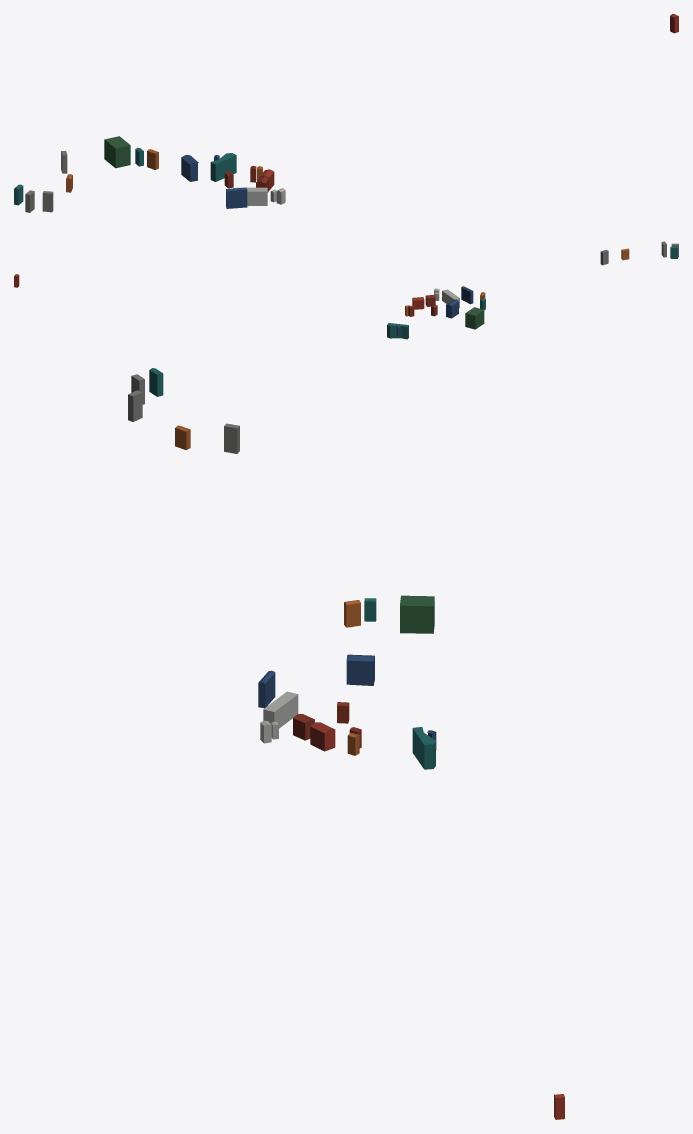
Rendered from near-15-27356-14861.5f40ff2d.glb.
3 renders of one model, top to bottom at view 1: azimuth 30°, elevation 25°; view 2: azimuth 150°, elevation 25°; view 3: azimuth 270°, elevation 25°, orthographic. The views are drawn at different scales.
Bounding box in the file's own units: 1076 × 186 × 362.
